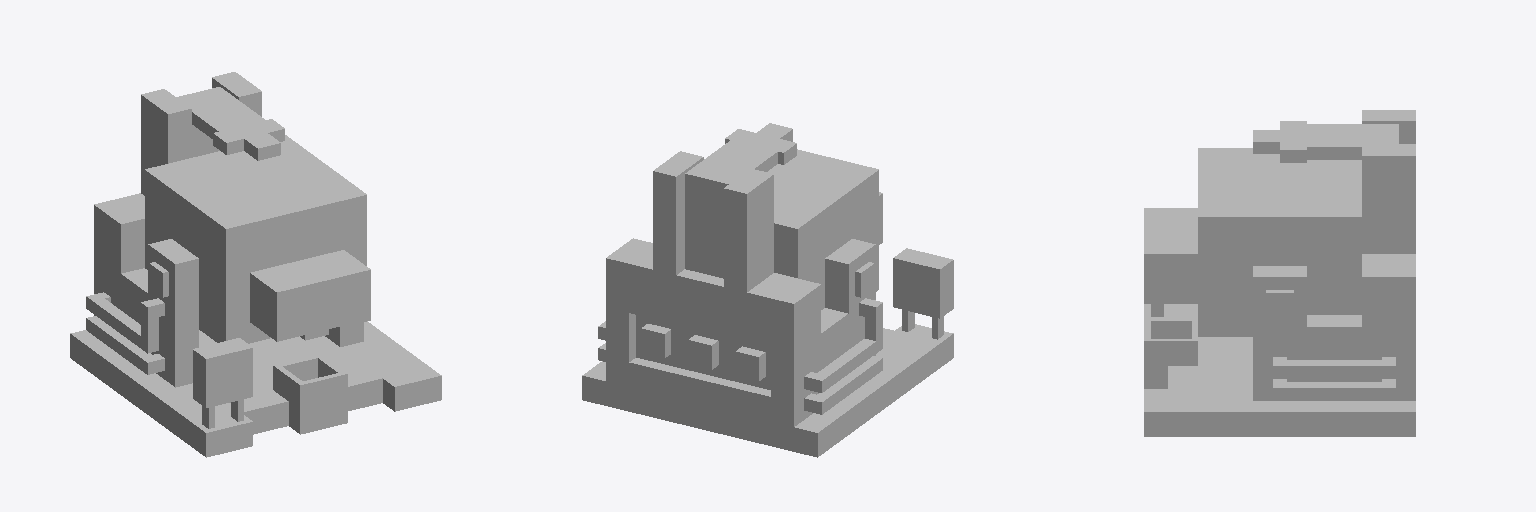
Rendered from arc_furnace.obj.
3 renders of one model, left to right at view 1: azimuth 30°, elevation 25°; view 2: azimuth 150°, elevation 25°; view 3: azimuth 270°, elevation 25°, orthographic.
Parts seen in each view (by area): view 1: base, furnace; view 2: base, furnace; view 3: base, furnace.
Boxes of the visible parts, <box> form: base: <box>70,72,441,457</box>; furnace: <box>145,135,370,343</box>; base: <box>582,123,953,457</box>; furnace: <box>768,149,882,309</box>; base: <box>1144,110,1415,436</box>; furnace: <box>1144,148,1361,336</box>.
Size of the model in its own units: 5 by 5 by 5.